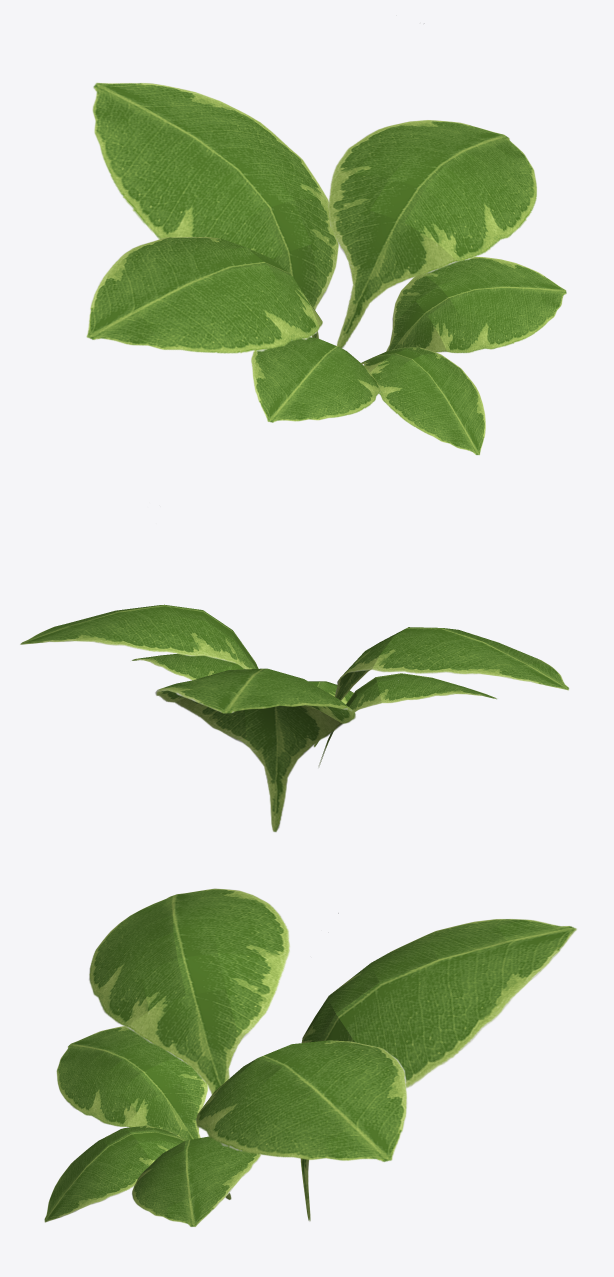
The model's file is LeafStage.glb.
The picture shows the model from 3 angles, top to bottom: view 1: azimuth 30°, elevation 25°; view 2: azimuth 150°, elevation 25°; view 3: azimuth 270°, elevation 25°; orthographic projection. The views are drawn at different scales.
Parts seen in each view (by area): view 1: SakuraBlossom_5, SakuraBlossom_4, SakuraBlossom_6, SakuraBlossom_3, SakuraBlossom_2, SakuraBlossom; view 2: SakuraBlossom_11, SakuraBlossom_4, SakuraBlossom_6, SakuraBlossom_5, SakuraBlossom_2, SakuraBlossom_3, SakuraBlossom_12; view 3: SakuraBlossom_6, SakuraBlossom_5, SakuraBlossom_4, SakuraBlossom_2, SakuraBlossom_3, SakuraBlossom, SakuraBlossom_11.
Part boxes in pixels (left/top/right/bottom): SakuraBlossom_5: left=92, top=82, right=338, bottom=309; SakuraBlossom_4: left=328, top=120, right=536, bottom=348; SakuraBlossom_6: left=86, top=237, right=322, bottom=352; SakuraBlossom_3: left=386, top=256, right=566, bottom=353; SakuraBlossom_2: left=251, top=337, right=380, bottom=422; SakuraBlossom: left=361, top=347, right=485, bottom=454; SakuraBlossom_11: left=155, top=689, right=355, bottom=832; SakuraBlossom_4: left=20, top=604, right=258, bottom=669; SakuraBlossom_6: left=313, top=627, right=568, bottom=746; SakuraBlossom_5: left=155, top=668, right=355, bottom=831; SakuraBlossom_2: left=318, top=673, right=496, bottom=766; SakuraBlossom_3: left=132, top=653, right=244, bottom=679; SakuraBlossom_12: left=314, top=669, right=568, bottom=747; SakuraBlossom_6: left=89, top=888, right=289, bottom=1094; SakuraBlossom_5: left=300, top=919, right=576, bottom=1221; SakuraBlossom_4: left=196, top=1040, right=407, bottom=1161; SakuraBlossom_2: left=56, top=1026, right=207, bottom=1140; SakuraBlossom_3: left=132, top=1136, right=260, bottom=1226; SakuraBlossom: left=44, top=1125, right=185, bottom=1221; SakuraBlossom_11: left=307, top=929, right=576, bottom=1221.
Size of the model in its own units: 1.79 by 1.08 by 1.54.
Materials: 2 (1 with a texture image).
